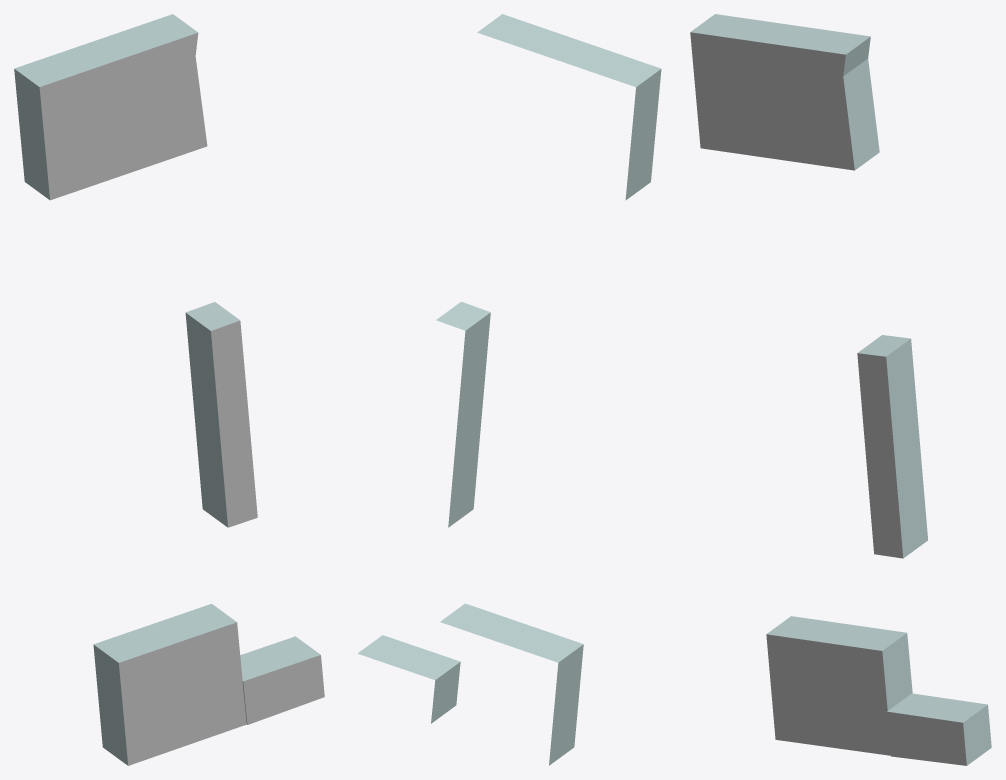
3 views of the same model, side by side, from view 1: azimuth 30°, elevation 25°; view 2: azimuth 150°, elevation 25°; view 3: azimuth 330°, elevation 25° (orthographic). The views are drawn at different scales.
Parts seen in each view (by area): view 1: 0_3_2_1_2_3_2_2_2; view 2: 0_3_2_1_2_3_2_2_2; view 3: 0_3_2_1_2_3_2_2_2.
Part boxes in pixels (left/top/right/bottom): 0_3_2_1_2_3_2_2_2: left=14, top=14, right=324, bottom=765; 0_3_2_1_2_3_2_2_2: left=358, top=14, right=661, bottom=765; 0_3_2_1_2_3_2_2_2: left=690, top=14, right=991, bottom=765.
Bounding box in the file's own units: 19.35 × 46.62 × 3.18.
